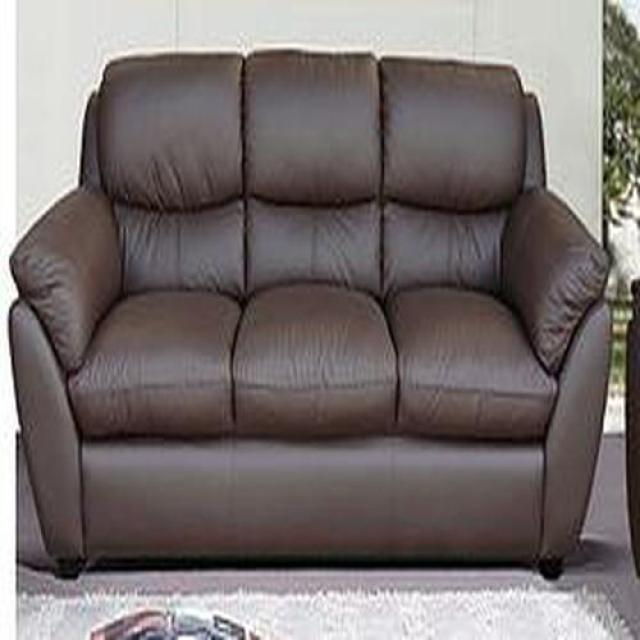sofa: (8, 46, 613, 585)
